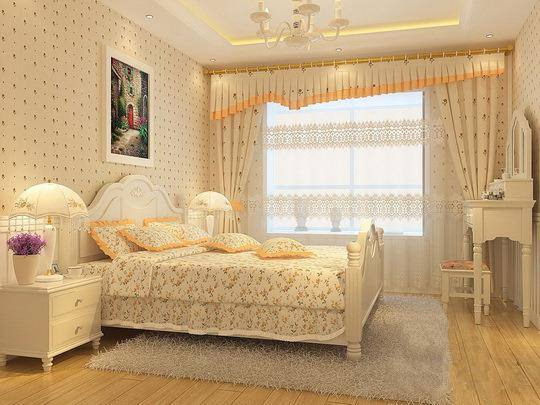床: (86, 238, 359, 346)
枕头: (90, 214, 229, 258), (202, 232, 264, 253), (255, 239, 316, 259)
灯: (12, 182, 88, 290), (249, 1, 365, 51), (184, 186, 236, 238), (486, 31, 499, 40)
